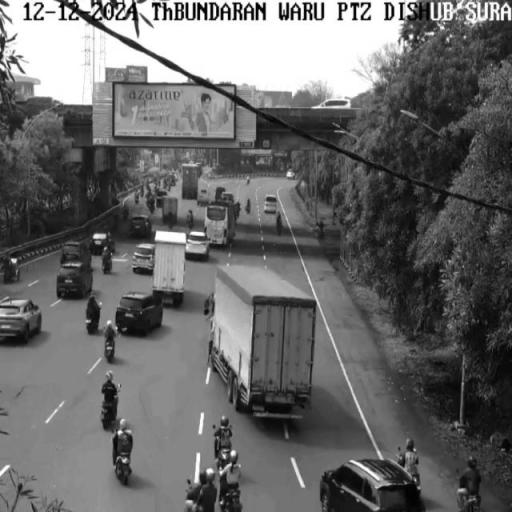bus: (206, 199, 230, 246)
car: (318, 458, 424, 512), (0, 297, 43, 341), (118, 293, 162, 335), (58, 262, 92, 297), (63, 241, 95, 266), (186, 230, 211, 260), (132, 245, 154, 272), (92, 232, 116, 252)
motorcycle: (454, 475, 484, 511), (398, 454, 423, 494), (114, 438, 132, 484), (220, 478, 244, 510), (102, 391, 120, 430), (214, 438, 236, 467), (82, 309, 102, 334), (103, 340, 117, 362), (103, 254, 112, 272)
truck: (206, 267, 317, 424), (155, 226, 183, 308)
